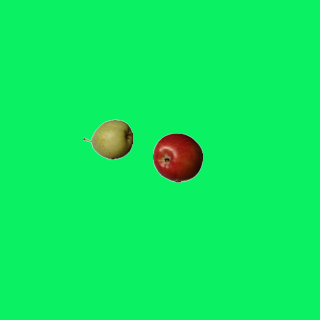Apple Braeburn: (152, 132, 202, 182)
Pear: (82, 114, 132, 164)
